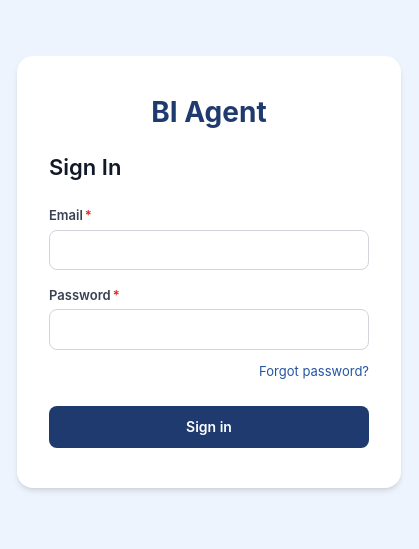
Test: LoginPage — email+password login › shows generic error on unknown failure
In the field labelled "Email*": coordinates (209, 250) [49, 230, 369, 270], type "a@b.com"
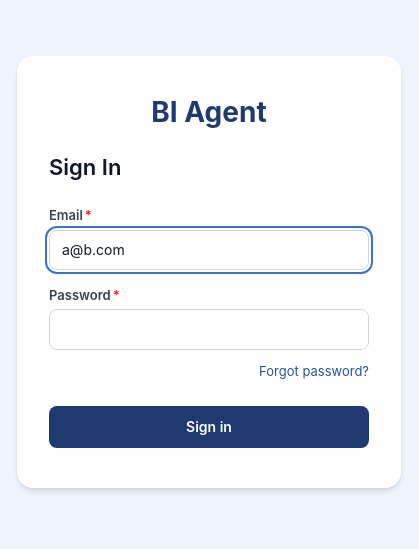
In the password field labelled "Password*": coordinates (209, 330) [49, 309, 369, 350], type "pw"
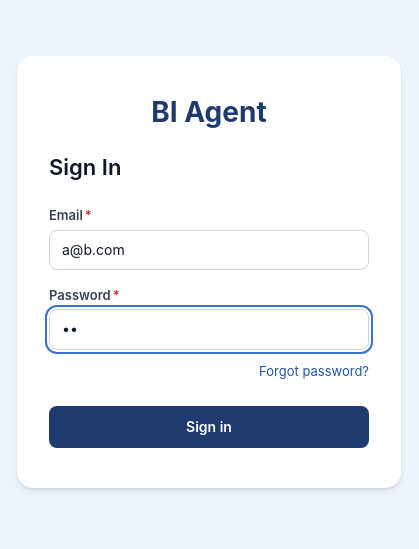
Click the button "Sign in": coordinates (209, 427) [49, 406, 369, 448]
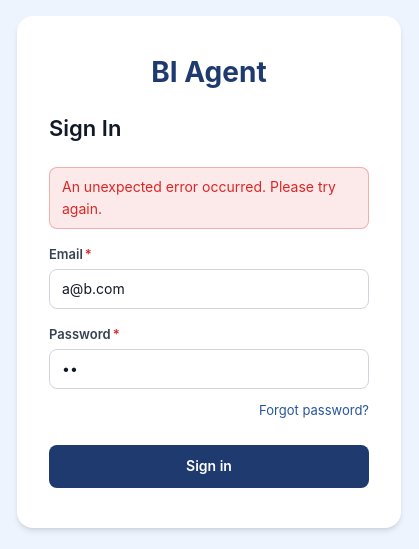
Now the message shows "unexpected error", box [62, 178, 336, 217]
